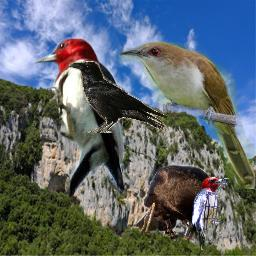Crow: (69, 61, 167, 133), (134, 164, 220, 241)
Cuckoo: (118, 42, 255, 189)
Woodpecker: (31, 37, 127, 197), (191, 176, 231, 254)
